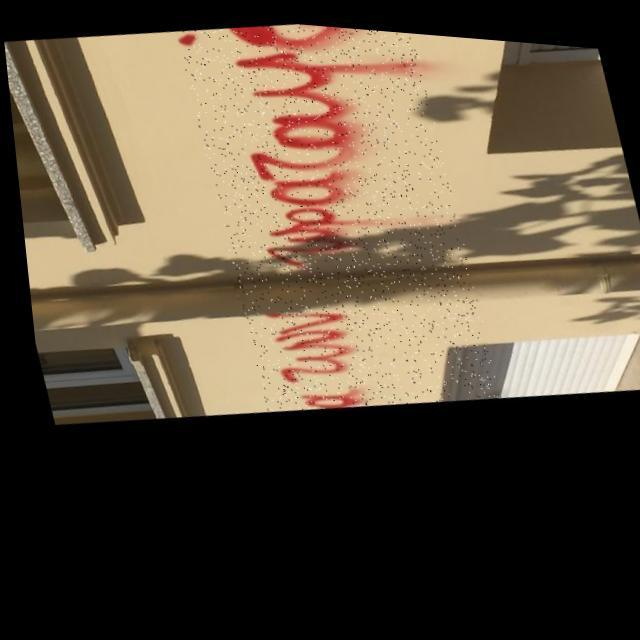-: (174, 11, 496, 424)
